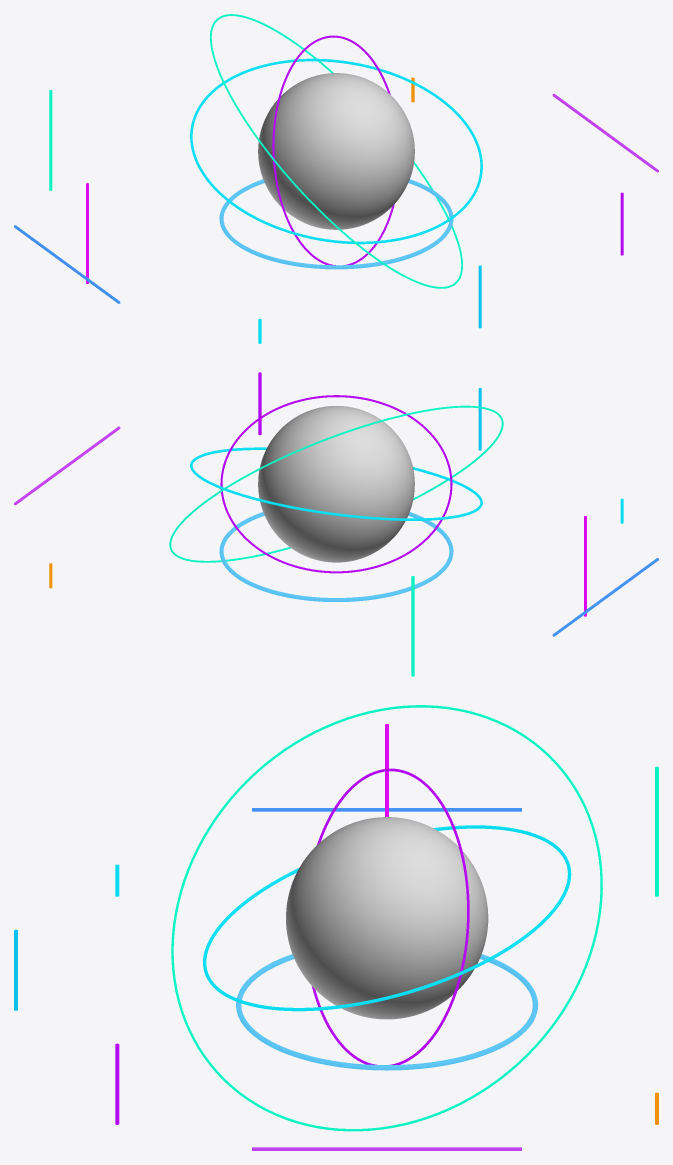
3 views of the same model, one above another, from view 1: azimuth 30°, elevation 25°; view 2: azimuth 150°, elevation 25°; view 3: azimuth 270°, elevation 25° (orthographic). The views are drawn at different scales.
Visible parts, largest first — view 1: MetallicSphere, SciFiRing_1, NeonRing_Base, SciFiRing_3, SciFiRing_2; view 2: MetallicSphere, NeonRing_Base, SciFiRing_2, SciFiRing_3, SciFiRing_1, NeonStrip_Purple, NeonStrip_Blue; view 3: MetallicSphere, SciFiRing_3, NeonRing_Base, SciFiRing_1, SciFiRing_2, NeonStrip_Purple, NeonStrip_Blue.
Boxes of the visible parts, <box> form: MetallicSphere: <box>258,73,414,229</box>; SciFiRing_1: <box>190,58,482,244</box>; NeonRing_Base: <box>219,179,453,269</box>; SciFiRing_3: <box>210,14,462,288</box>; SciFiRing_2: <box>272,35,394,265</box>; MetallicSphere: <box>258,406,414,562</box>; NeonRing_Base: <box>219,512,453,601</box>; SciFiRing_2: <box>220,395,452,573</box>; SciFiRing_3: <box>169,405,503,562</box>; SciFiRing_1: <box>190,447,482,520</box>; NeonStrip_Purple: <box>14,426,120,505</box>; NeonStrip_Blue: <box>552,558,658,636</box>; MetallicSphere: <box>286,817,488,1019</box>; SciFiRing_3: <box>171,705,602,1131</box>; NeonRing_Base: <box>236,954,538,1070</box>; SciFiRing_1: <box>203,825,571,1011</box>; SciFiRing_2: <box>312,768,469,1064</box>; NeonStrip_Purple: <box>252,1147,521,1150</box>; NeonStrip_Blue: <box>252,808,521,811</box>.
Size of what is drawn, in the model's own units: 11.94 by 4.84 by 9.56.
